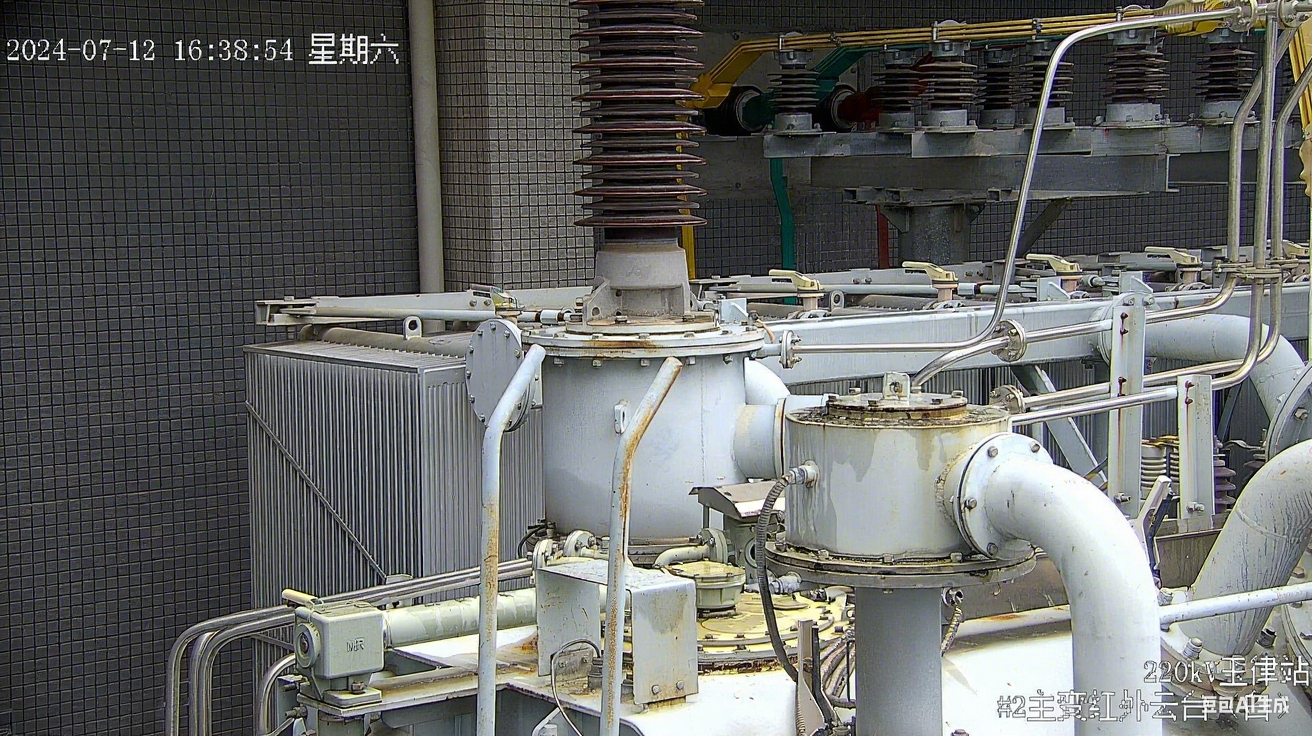HTX: (600, 362, 688, 735), (368, 622, 541, 700), (474, 499, 501, 693), (539, 580, 595, 641), (693, 654, 799, 679), (577, 337, 663, 355), (978, 610, 1028, 622), (1046, 603, 1068, 621), (1183, 379, 1194, 405), (1118, 311, 1128, 338), (1116, 375, 1127, 397)
